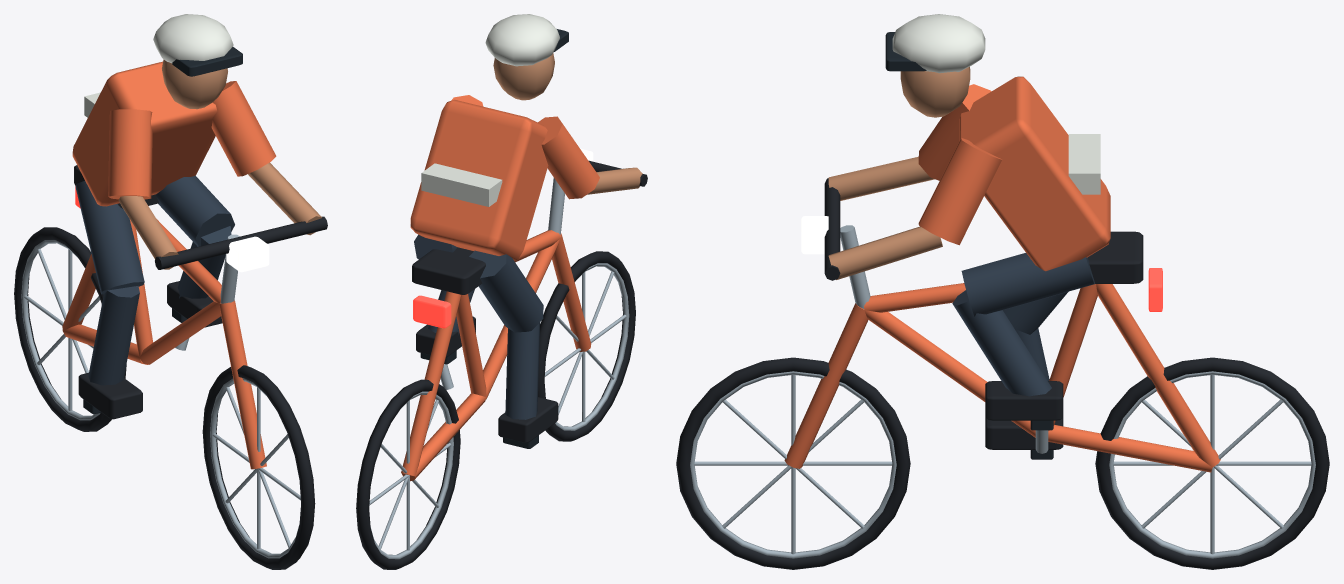
Rendered from bicycle.glb.
The picture shows the model from 3 angles, left to right: view 1: azimuth 30°, elevation 25°; view 2: azimuth 150°, elevation 25°; view 3: azimuth 270°, elevation 25°; orthographic projection. The views are drawn at different scales.
Visible parts, largest first — view 1: bicycle, Wheel_1, Wheel_0, Thigh_-1, Shin_-1, Thigh_1, Shoe_-1, Shin_1, Shoe_1; view 2: bicycle, Wheel_0, Wheel_1, Thigh_-1, Shin_-1, Shoe_-1, Shoe_1, Crank, Thigh_1; view 3: bicycle, Wheel_1, Wheel_0, Thigh_1, Shin_1, Shoe_1, Shoe_-1, Thigh_-1.
Boxes of the visible parts, box(x1,y1,x2,y2) form: bicycle: box(62, 14, 327, 469); Wheel_1: box(202, 365, 315, 569); Wheel_0: box(14, 227, 126, 431); Thigh_-1: box(75, 180, 144, 294); Shin_-1: box(88, 286, 139, 385); Thigh_1: box(155, 175, 234, 246); Shoe_-1: box(78, 372, 142, 419); Shin_1: box(177, 226, 231, 298); Shoe_1: box(167, 281, 222, 327); bicycle: box(401, 14, 647, 481); Wheel_0: box(356, 379, 460, 569); Wheel_1: box(538, 251, 635, 441); Thigh_-1: box(469, 250, 543, 332); Shin_-1: box(505, 322, 540, 419); Shoe_-1: box(498, 397, 558, 442); Shoe_1: box(416, 316, 475, 357); Crank: box(420, 350, 538, 448); Thigh_1: box(414, 234, 457, 259); bicycle: box(784, 14, 1220, 472); Wheel_1: box(676, 357, 910, 569); Wheel_0: box(1095, 357, 1329, 569); Thigh_1: box(961, 253, 1095, 316); Shin_1: box(952, 290, 1051, 396); Shoe_1: box(985, 381, 1063, 420); Shoe_-1: box(985, 418, 1063, 449); Thigh_-1: box(1003, 291, 1068, 334).
Size of the model in its own units: 0.6 by 1.71 by 1.84.
